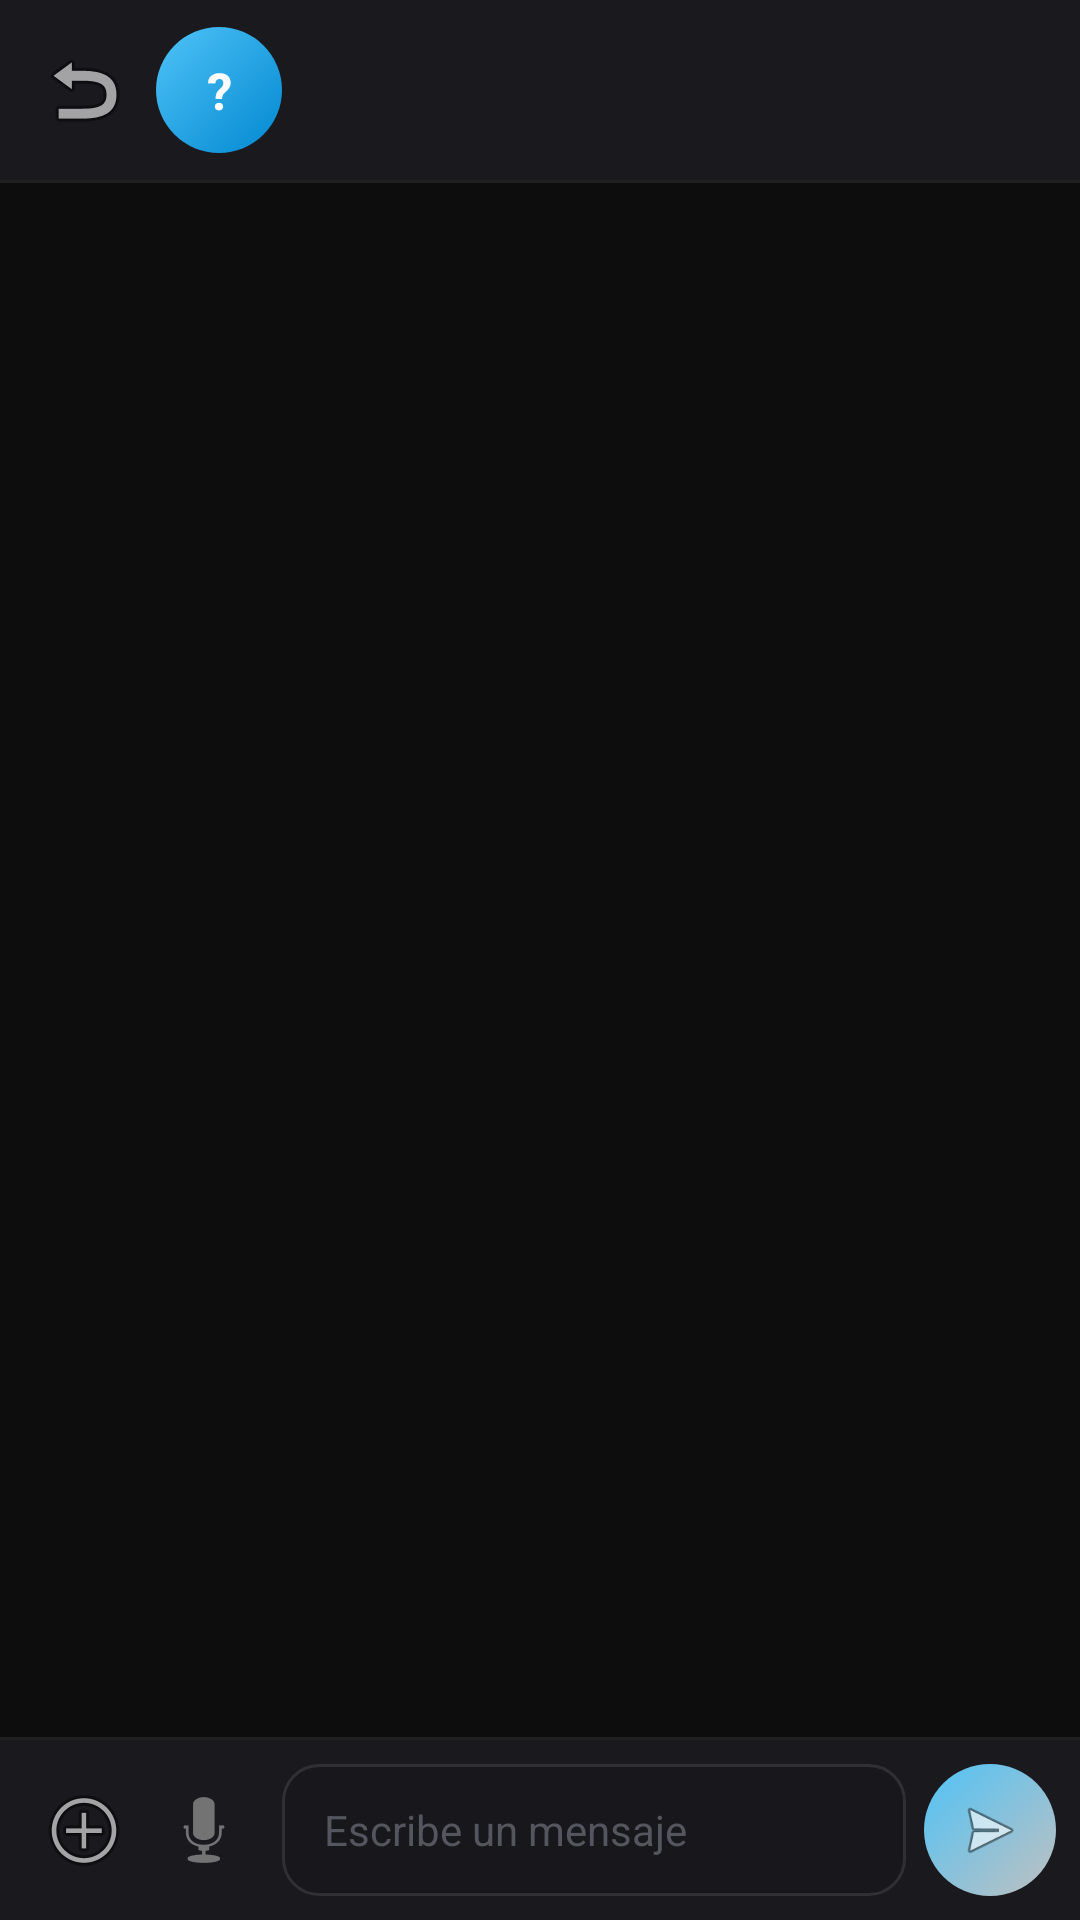

Icon bounding boxes for this 1080px×1920px phone screenshot, format (x1, y1, x2, y2):
Adjuntar: (51, 1798, 117, 1863)
Enviar: (924, 1764, 1056, 1896)
Grabar audio: (183, 1797, 225, 1863)
Volver: (54, 62, 117, 119)
